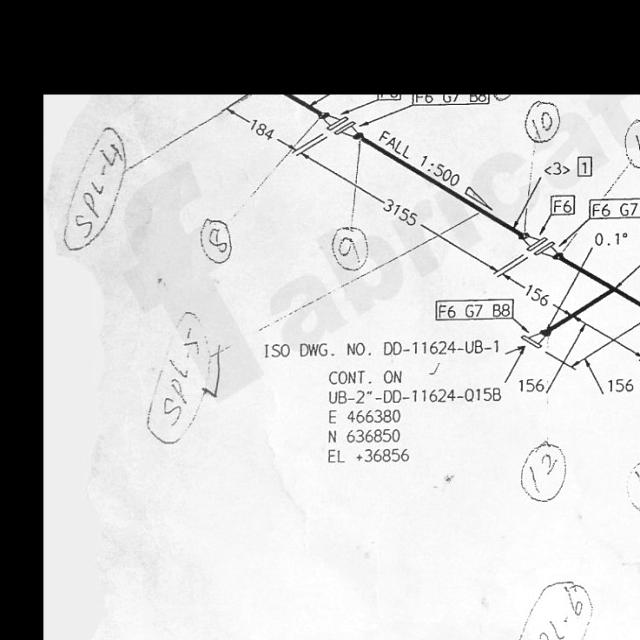Item number: (433, 295, 516, 323), (588, 195, 639, 220), (411, 94, 492, 108), (549, 190, 577, 217), (575, 153, 595, 178), (376, 94, 403, 102)
Measrement: (291, 144, 504, 279), (517, 316, 639, 398), (221, 103, 302, 155), (494, 270, 572, 318), (593, 228, 630, 250)
Pipeline: (366, 135, 516, 233), (545, 254, 639, 337)
Symbol: (321, 108, 363, 143), (521, 230, 562, 260), (516, 325, 550, 356)
Weld number: (519, 439, 569, 506), (329, 224, 371, 274), (522, 98, 563, 148), (198, 215, 234, 266), (622, 114, 639, 171), (624, 459, 639, 515)
other: (326, 369, 504, 466)
